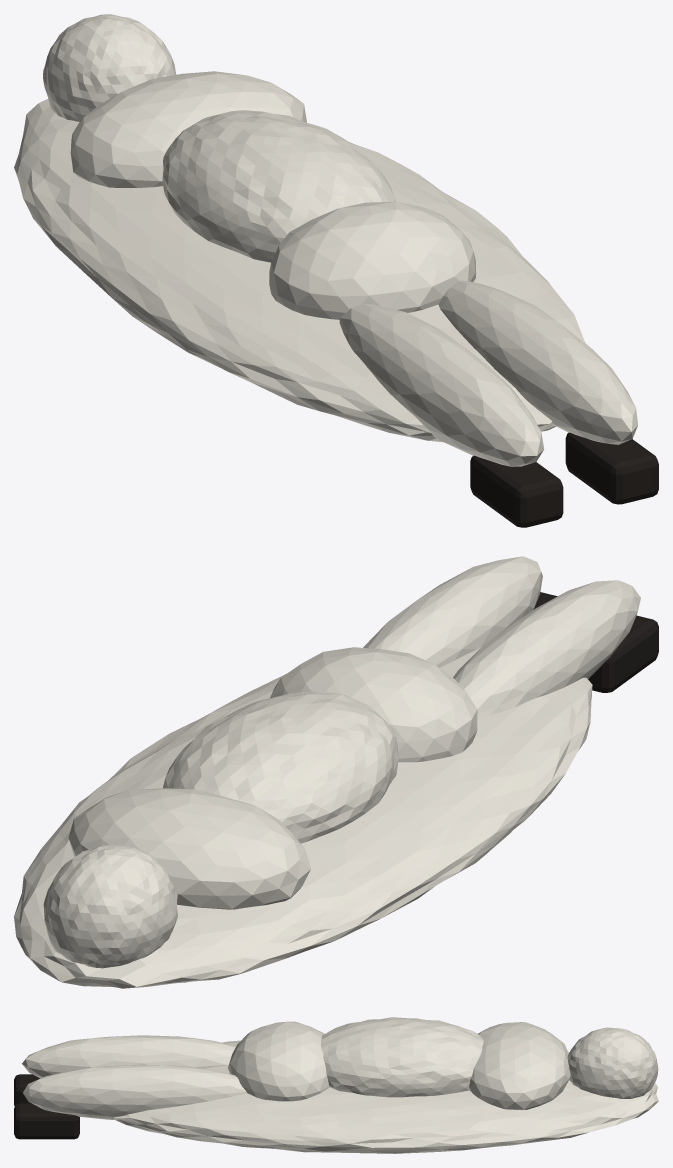
Rendered from body_sheet.glb.
The picture shows the model from 3 angles, top to bottom: view 1: azimuth 30°, elevation 25°; view 2: azimuth 150°, elevation 25°; view 3: azimuth 270°, elevation 25°; orthographic projection. The views are drawn at different scales.
Parts seen in each view (by area): view 1: body_sheet; view 2: body_sheet; view 3: body_sheet.
Boxes of the visible parts, x1,y1,x2,y2 form: body_sheet: (14,14,658,527); body_sheet: (14,556,658,988); body_sheet: (14,1017,658,1153).
Bounding box in the file's own units: 0.8812 × 0.3636 × 2.25.
1 material, 1 textured.
